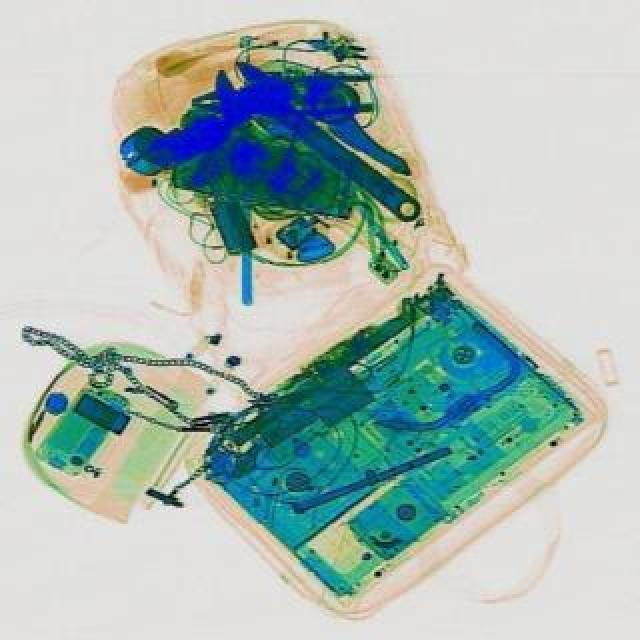scissors: (200, 50, 428, 238)
wrench: (188, 72, 374, 120)
